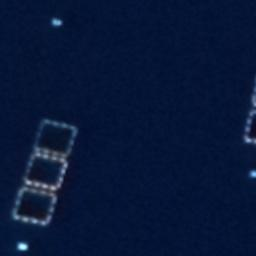square_solid: (19, 150, 74, 195), (8, 184, 60, 230), (30, 115, 80, 162)
